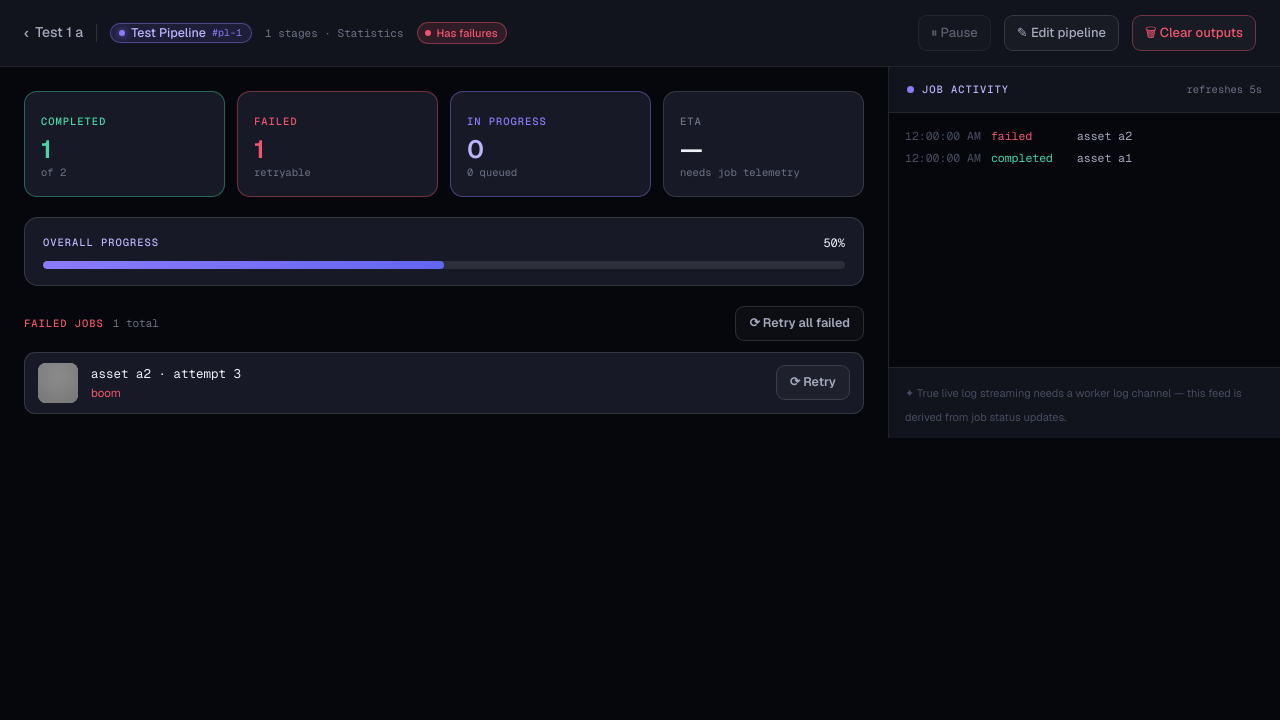
Scenario: PipelineStatsView › surfaces an error if clearing fails
Expected: the text "Test Pipeline" is shown, [131, 26, 206, 39]
Click the button "🗑 Clear outputs": point(1194, 33) [1132, 15, 1256, 50]
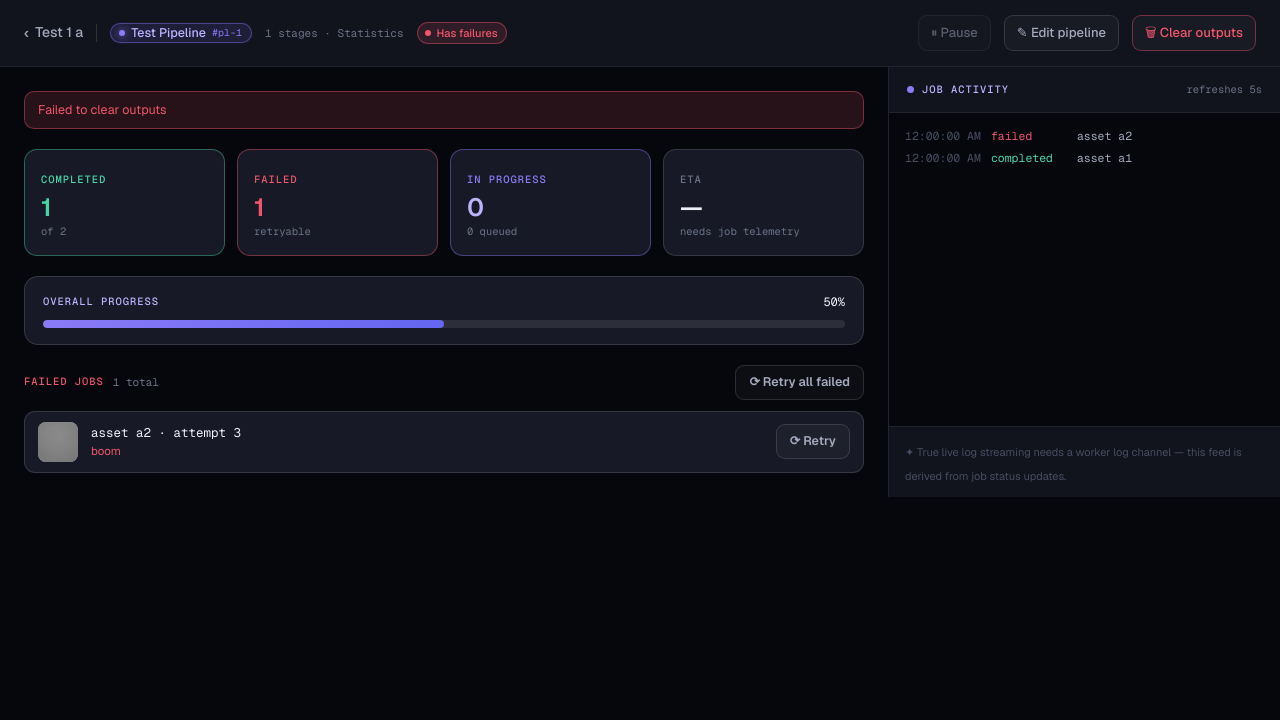
Expected: the text "Failed to clear outputs" is shown, [24, 90, 864, 129]
